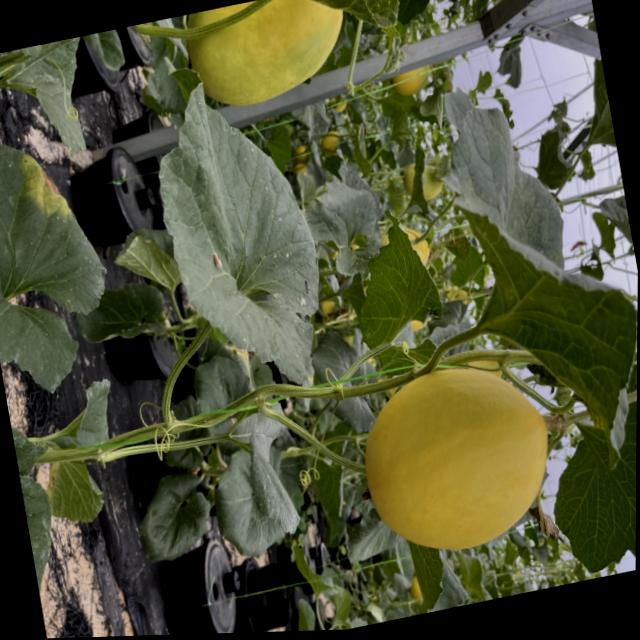CMV: (280, 0, 409, 60)
alternaria leaf blight: (0, 43, 127, 404)
downy mildew: (410, 54, 639, 431), (132, 42, 338, 407)
healthy: (335, 197, 455, 370), (537, 399, 637, 585), (413, 540, 478, 613)
powdery mildew: (211, 401, 313, 567), (17, 463, 78, 609)
